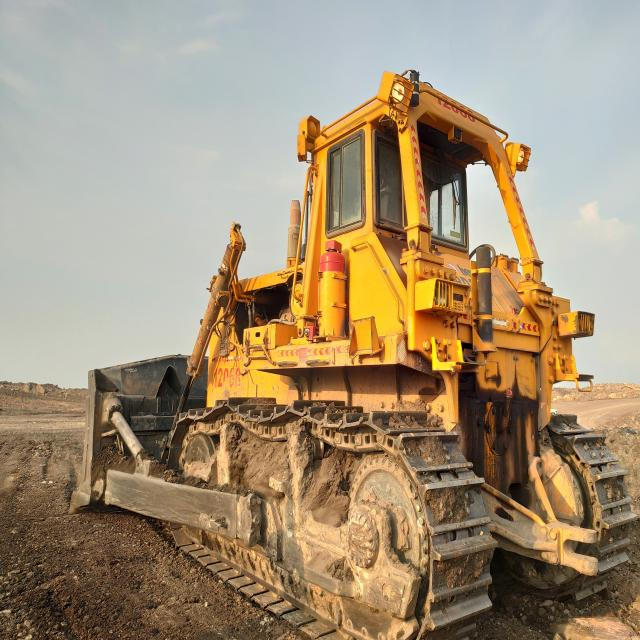buldozerpayloadergrader: (74, 72, 631, 638)
